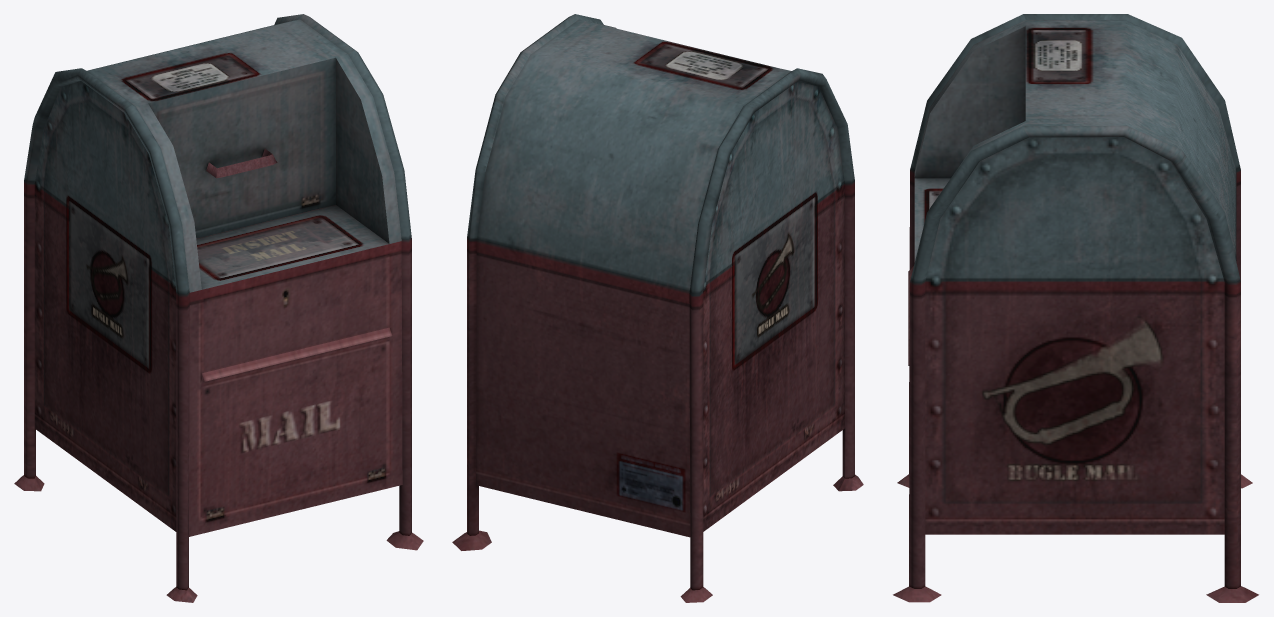
Rendered from Model_Mailbox_02.fbx.
3 renders of one model, left to right at view 1: azimuth 30°, elevation 25°; view 2: azimuth 150°, elevation 25°; view 3: azimuth 270°, elevation 25°, orthographic. The views are drawn at different scales.
Visible parts, largest first — view 1: Mailbox; view 2: Mailbox; view 3: Mailbox.
Boxes of the visible parts, x1=… form: Mailbox: x1=14, y1=14, x2=423, y2=602; Mailbox: x1=452, y1=14, x2=863, y2=602; Mailbox: x1=893, y1=14, x2=1258, y2=602.
Bounding box in the file's own units: 77.08 × 134 × 94.8.
